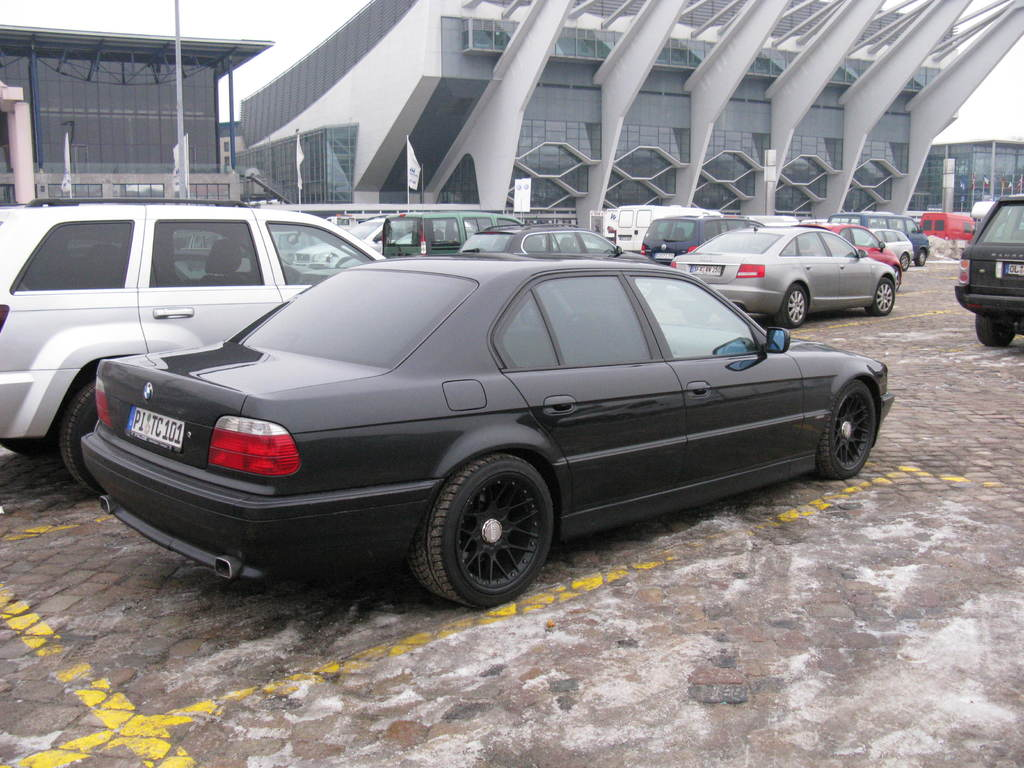mobil: (92, 259, 886, 611), (672, 226, 902, 319)
